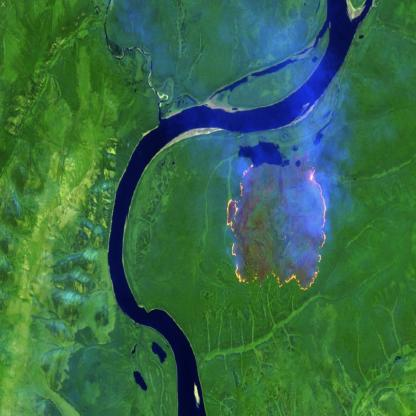fire: (226, 160, 328, 291)
